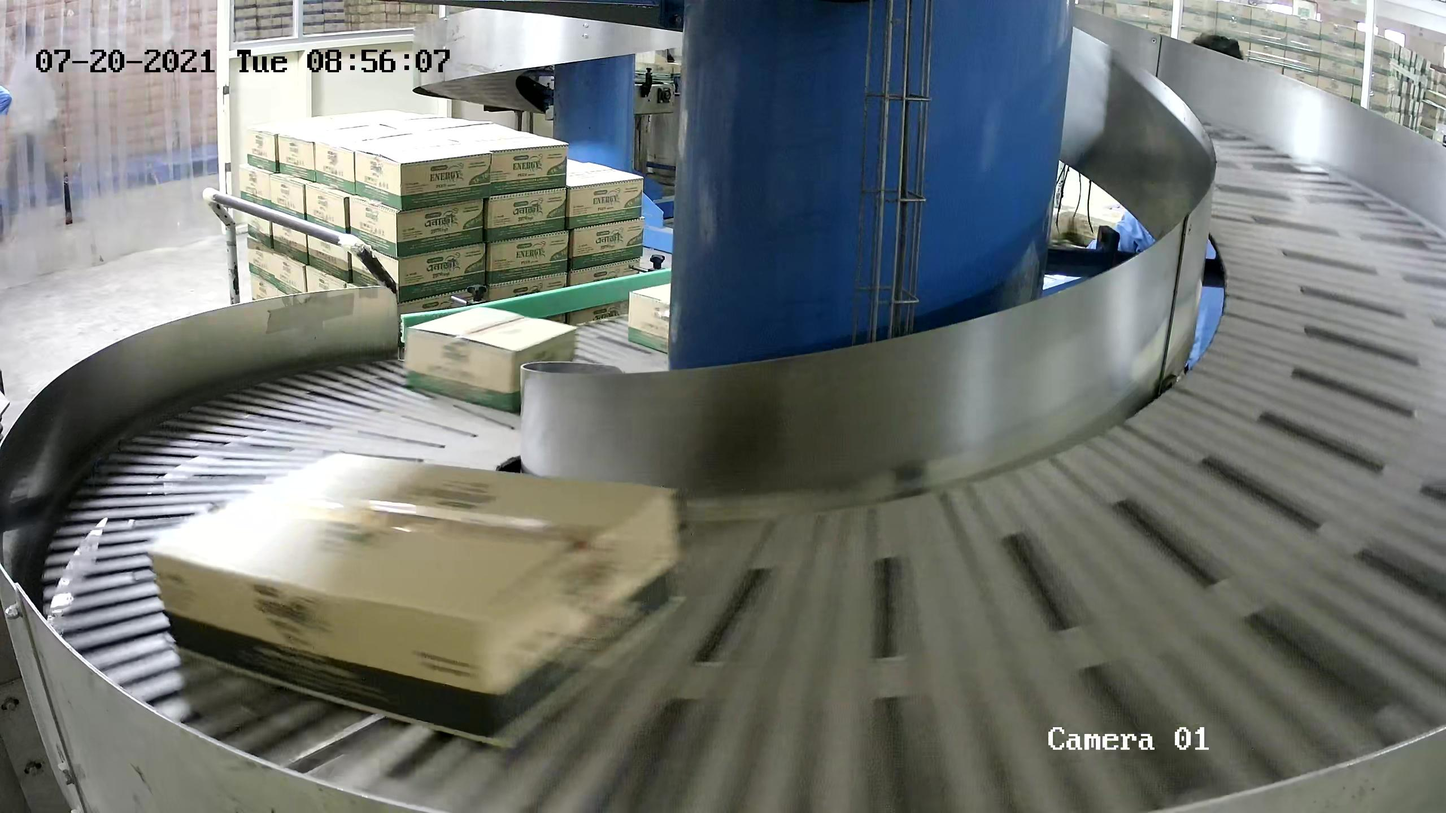Box: (148, 446, 692, 759), (403, 304, 581, 415), (627, 268, 743, 361)
